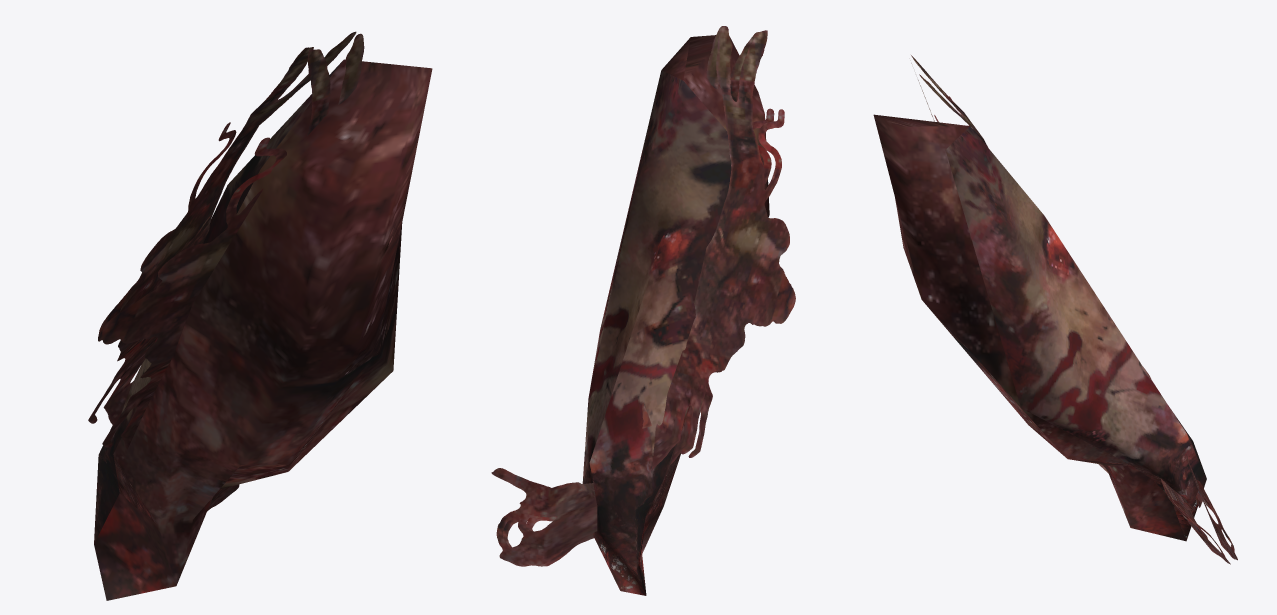
File: fx_char_gib_chunk_meat02_LOD0.obj
3 renders of one model, left to right at view 1: azimuth 30°, elevation 25°; view 2: azimuth 150°, elevation 25°; view 3: azimuth 270°, elevation 25°, orthographic. The views are drawn at different scales.
Visible parts, largest first — view 1: mtl_fx_char_gib_chunks; view 2: mtl_fx_char_gib_chunks; view 3: mtl_fx_char_gib_chunks.
Part boxes in pixels (x1,y1,x2,y2): mtl_fx_char_gib_chunks: (88, 31, 432, 600); mtl_fx_char_gib_chunks: (491, 26, 795, 595); mtl_fx_char_gib_chunks: (873, 55, 1237, 564).
Bounding box in the file's own units: 10.17 × 19.5 × 13.92.
